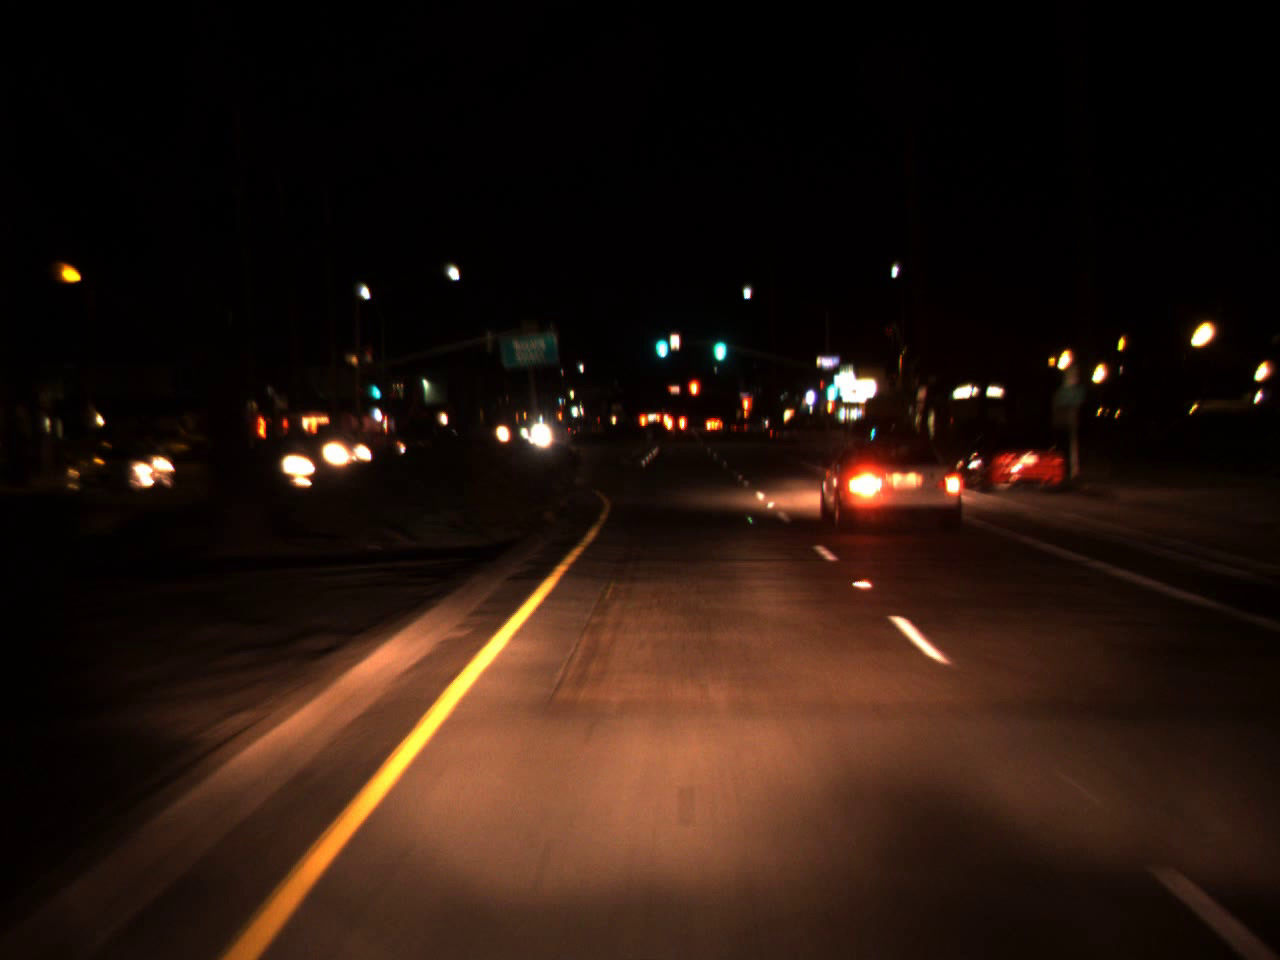go: (708, 319, 729, 367), (650, 321, 669, 360), (823, 370, 839, 406), (369, 370, 381, 403)
stop: (686, 376, 701, 413), (740, 393, 752, 425)
